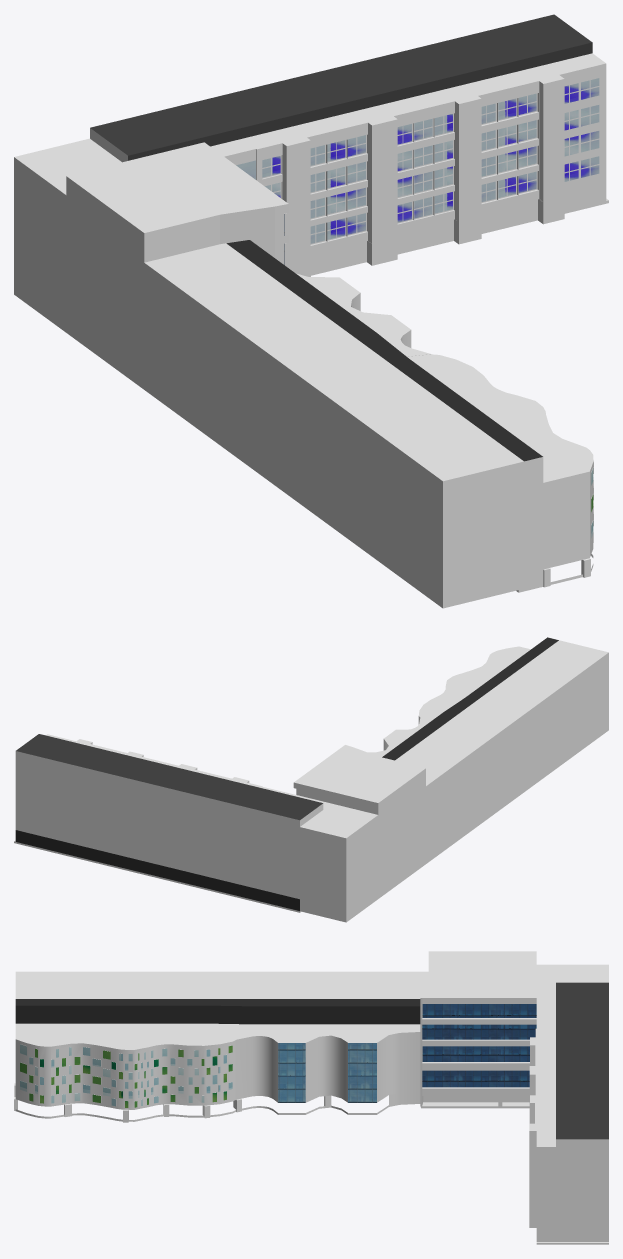
File: Building7n4-1.obj
The picture shows the model from 3 angles, top to bottom: view 1: azimuth 30°, elevation 25°; view 2: azimuth 150°, elevation 25°; view 3: azimuth 270°, elevation 25°; orthographic projection. The views are drawn at different scales.
Parts seen in each view (by area): view 1: Mesh1 Model; view 2: Mesh1 Model; view 3: Mesh1 Model.
Part boxes in pixels (<box>): Mesh1 Model: <box>14,14,608,608</box>; Mesh1 Model: <box>14,637,608,922</box>; Mesh1 Model: <box>14,951,608,1244</box>.
Bounding box in the file's own units: 2238 × 628 × 3071.
Materials: 9 (6 with a texture image).
